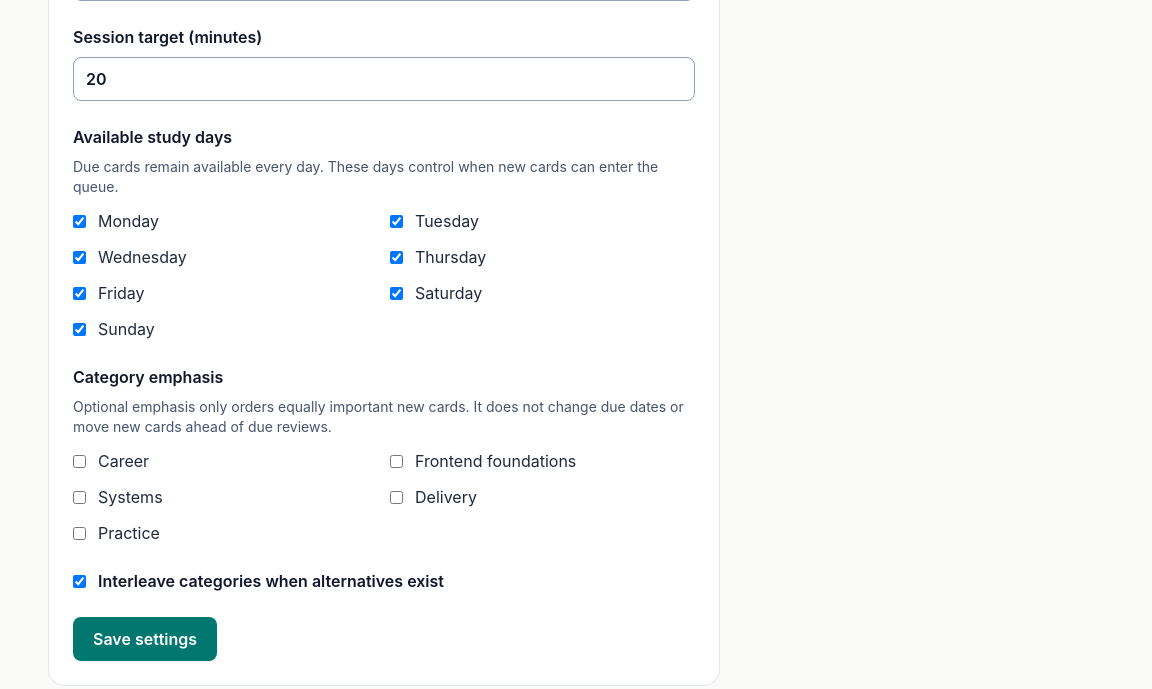
Test: study pages › persists available study days and category emphasis
(page scrolled)
Click the checkbox labelled "Sunday" at (80, 329), box top-left (73, 322), bottom-right (86, 336)
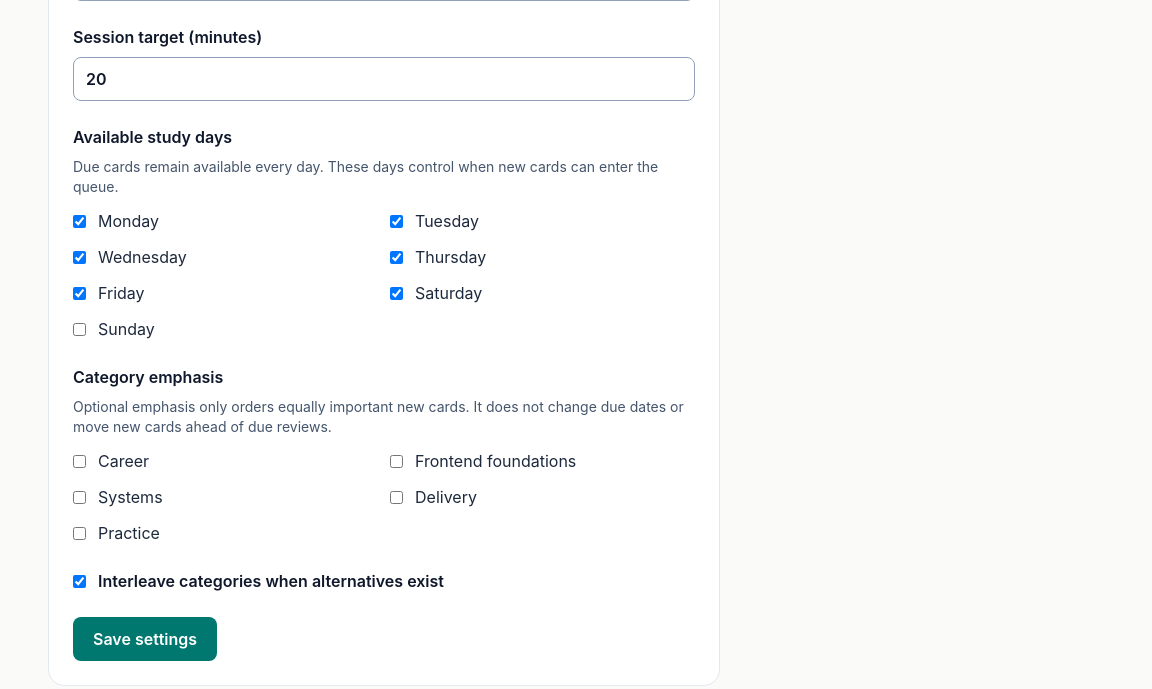
Click the checkbox labelled "Systems" at (80, 497), box top-left (73, 490), bottom-right (86, 504)
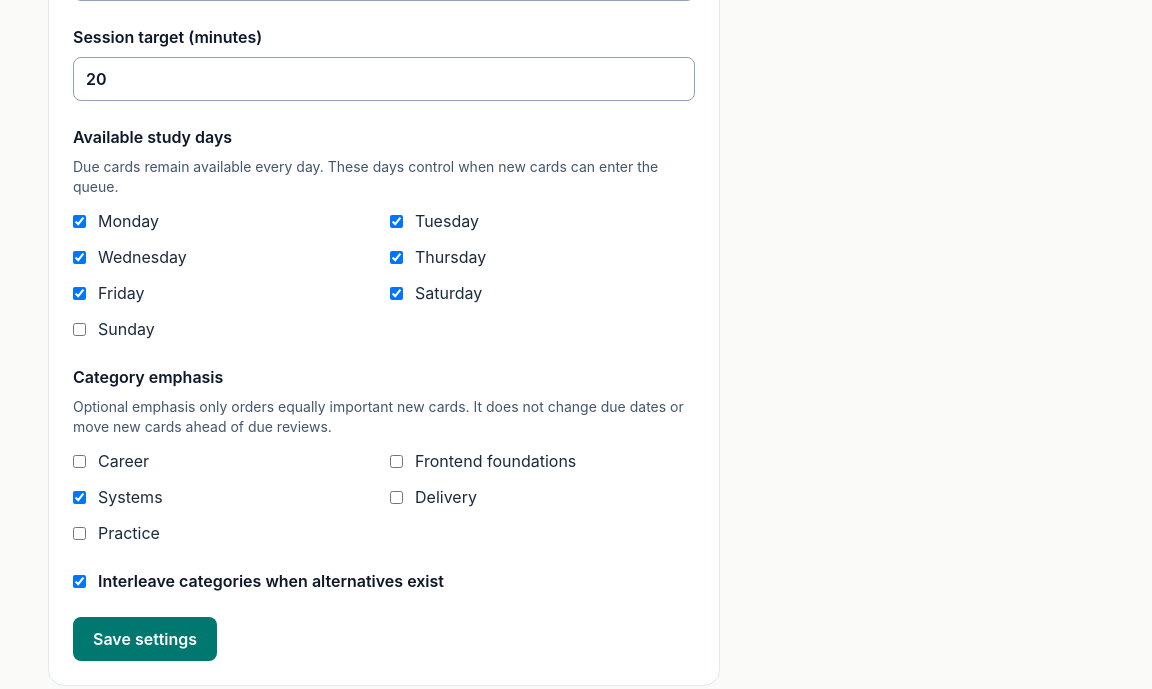
Click the button "Save settings" at (145, 639), box top-left (73, 617), bottom-right (217, 661)
(page scrolled)
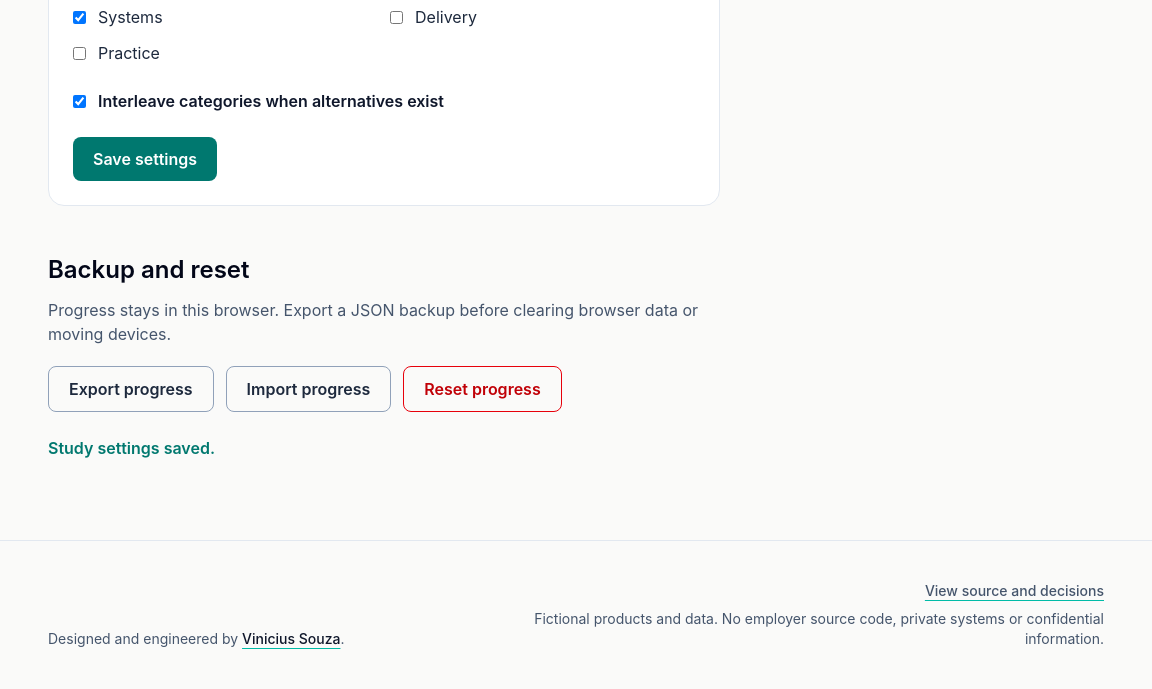
Check: the text "Study settings saved." is shown, box top-left (48, 438), bottom-right (215, 458)
